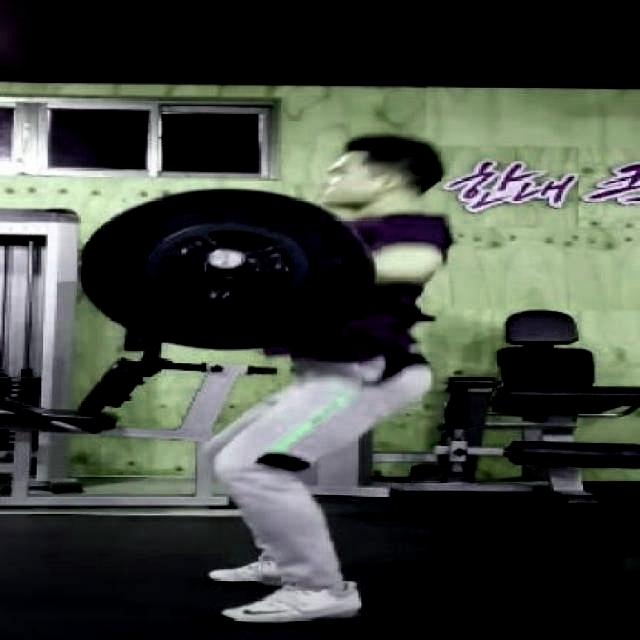barbell: (74, 187, 382, 354)
